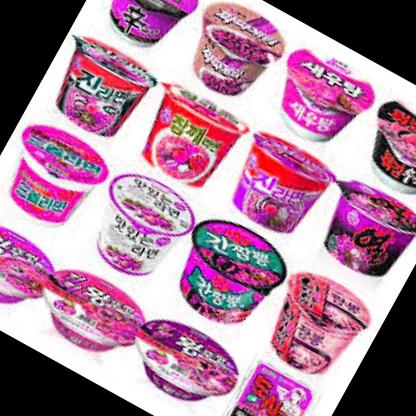Ramen: (161, 206, 303, 345), (120, 70, 258, 204), (252, 262, 382, 396), (80, 160, 209, 287), (260, 36, 390, 160), (23, 254, 158, 372), (214, 124, 341, 246), (119, 306, 258, 416), (35, 27, 160, 146), (302, 168, 416, 289), (0, 115, 115, 233), (172, 0, 296, 108), (0, 203, 73, 326), (347, 82, 416, 205), (86, 0, 208, 62)
